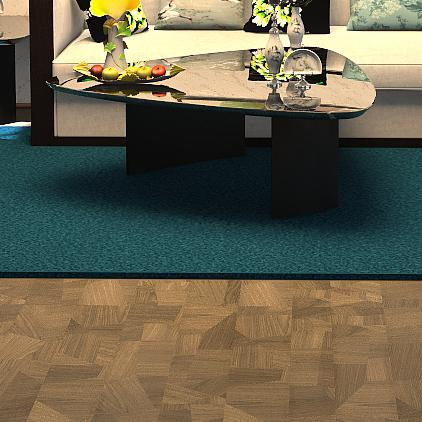table: (35, 43, 381, 199)
